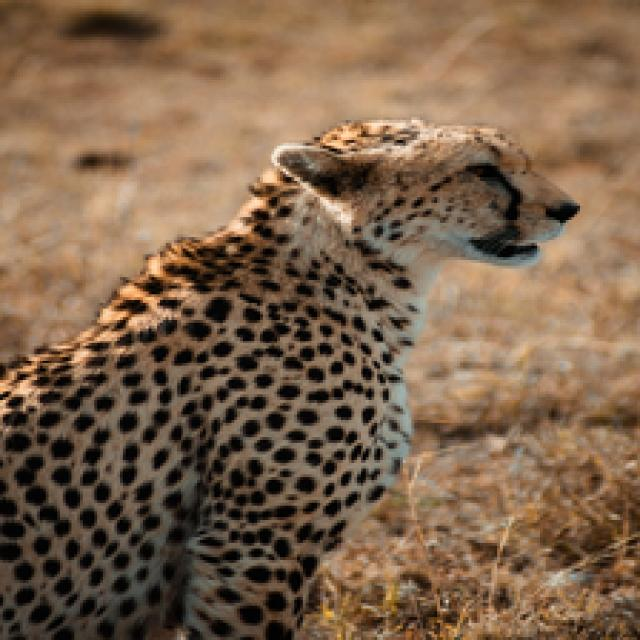cheetah: (0, 111, 582, 640)
